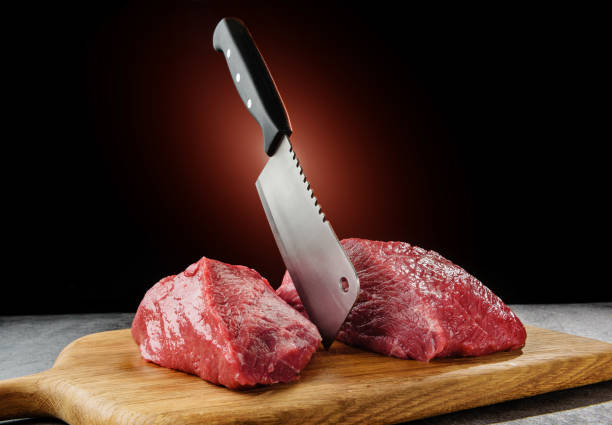knife: (209, 14, 361, 353)
